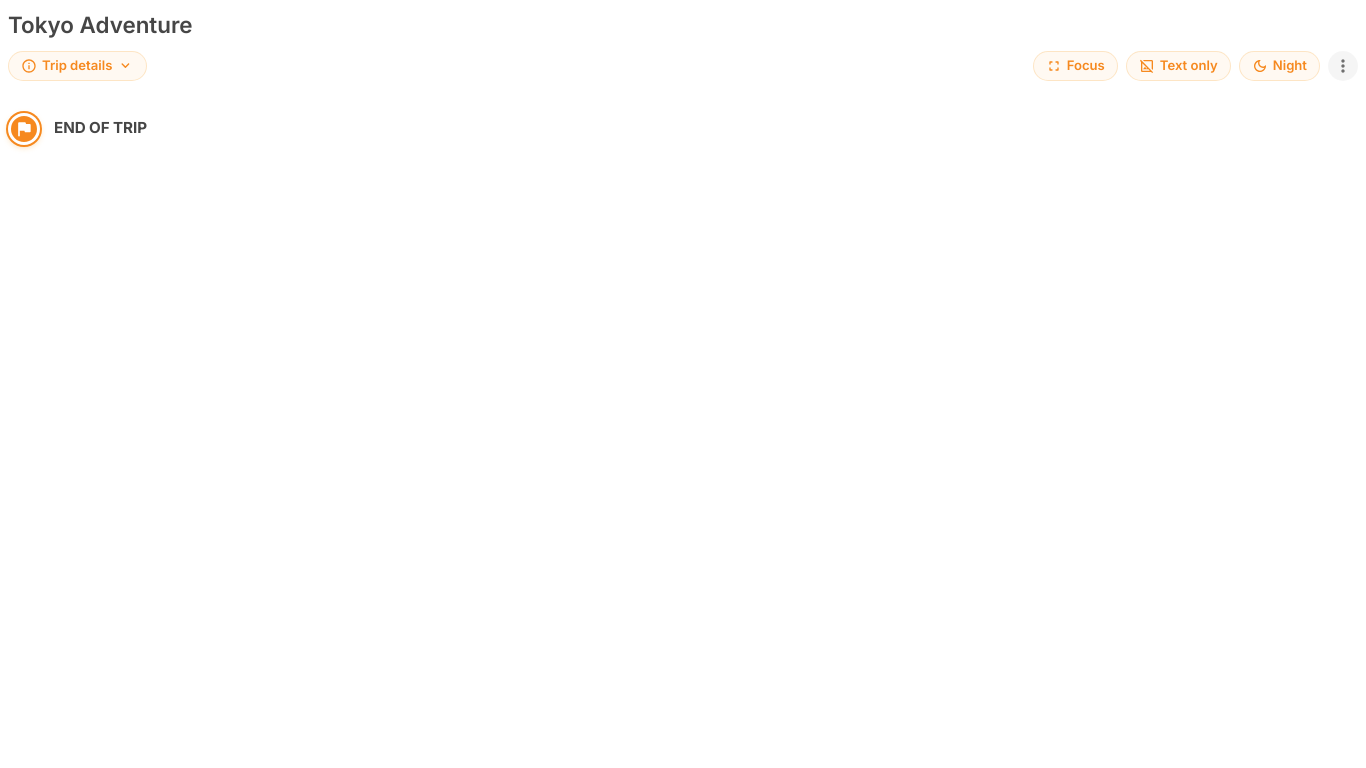
Test: TripDetail — error paths › toasts when deleting fails
The width and height of the screenshot is (1366, 768).
Step 1. Click the button named "More actions" → (1343, 66), box 1328,51 -> 1358,81
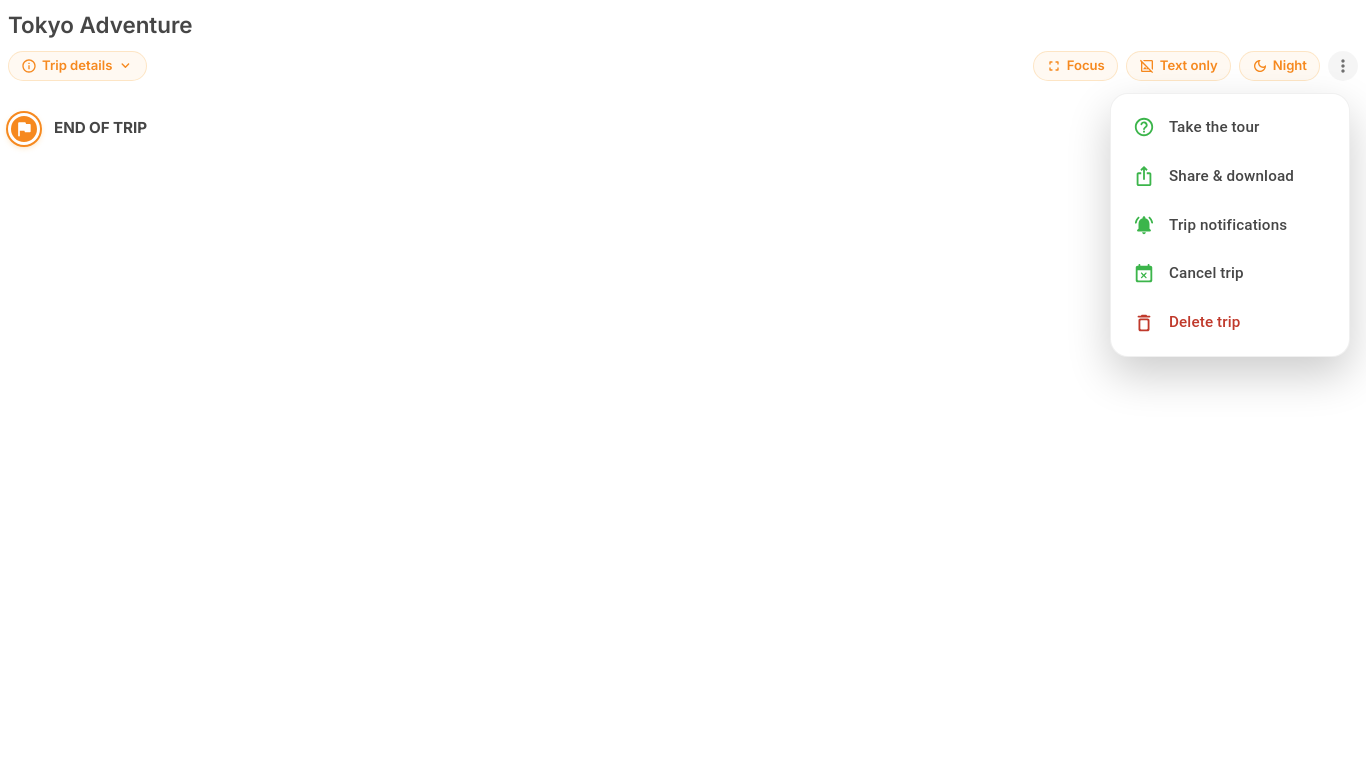
Step 2. Click the menu item "Delete trip" → (1187, 323), box 1133,312 -> 1240,334
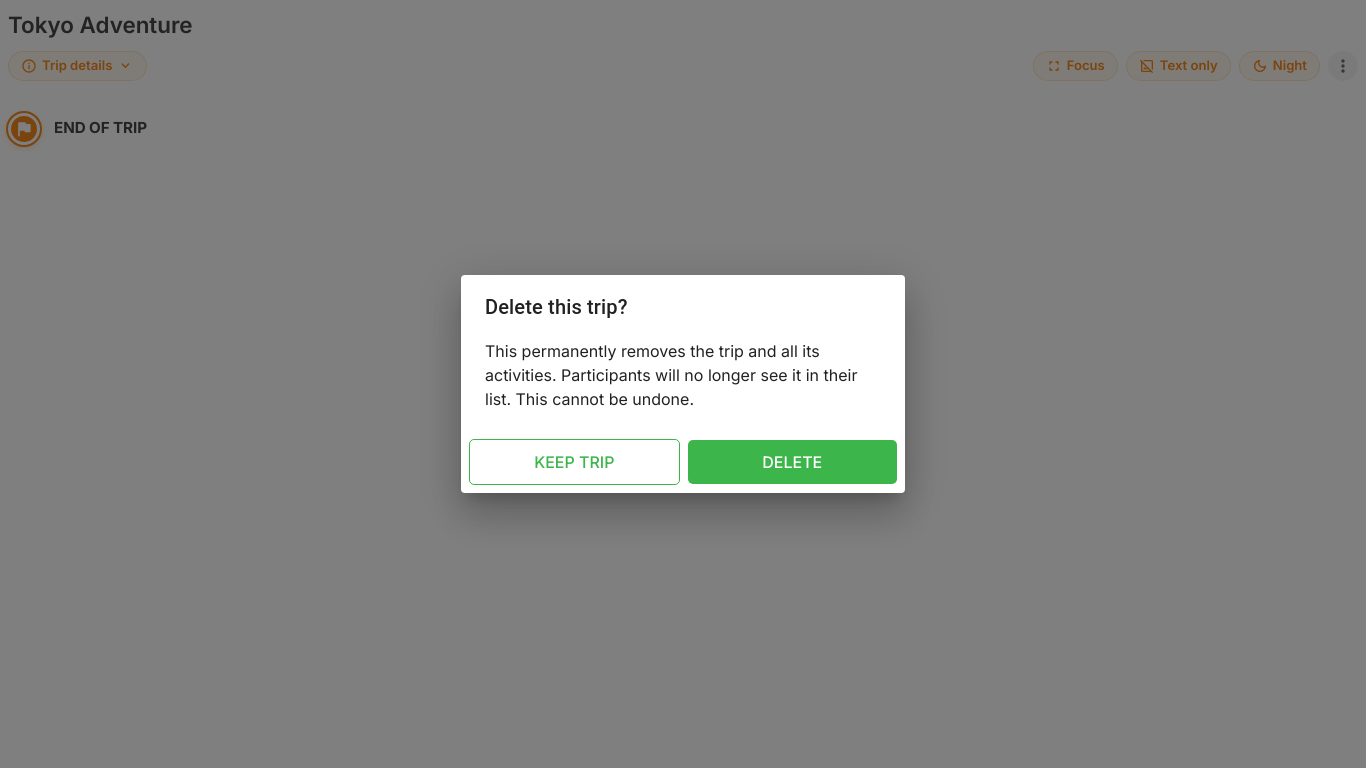
Step 3. Click the button "Delete" → (792, 462), box 688,440 -> 897,484
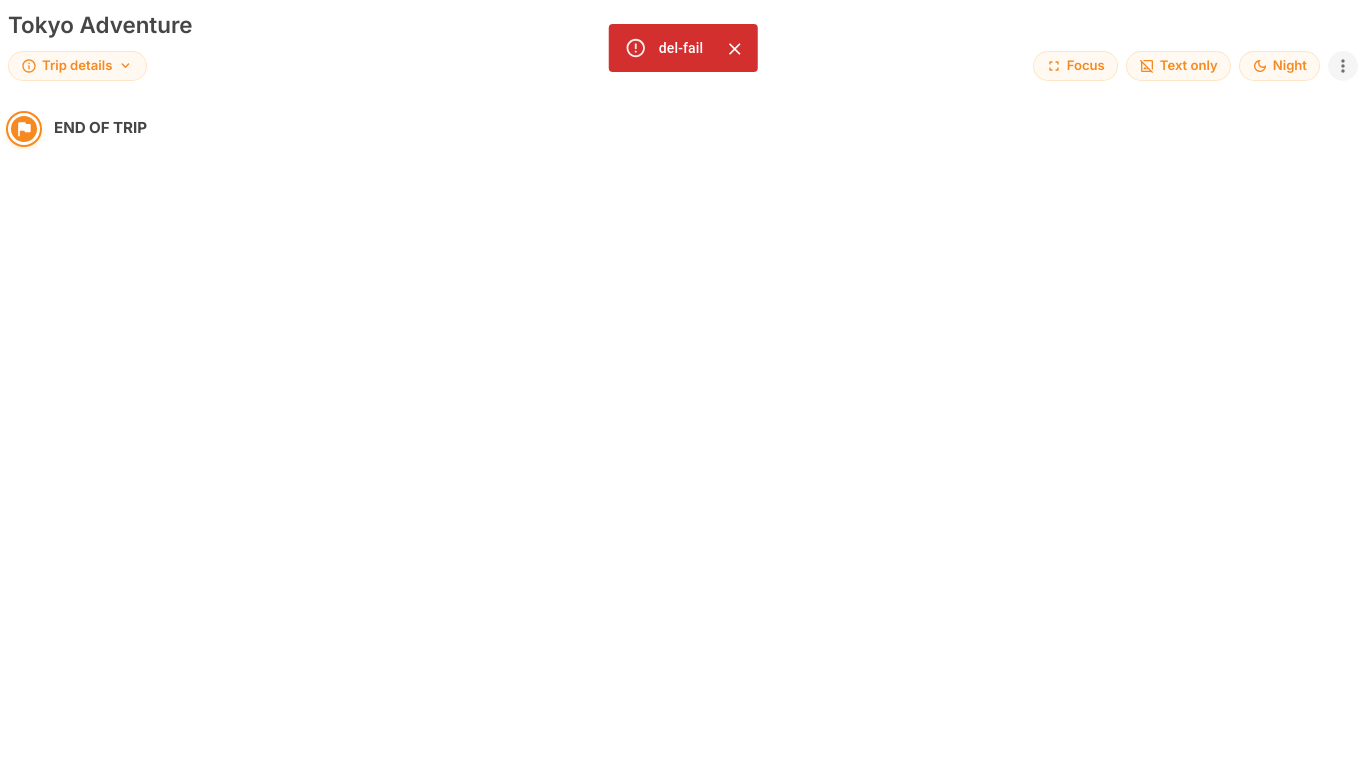
Check: the text "del-fail" is shown, box 659,40 -> 703,56
